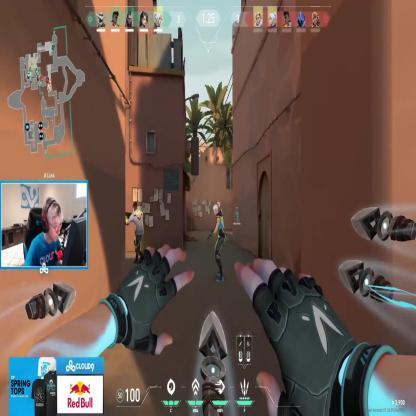enemy: (210, 201, 226, 282), (125, 202, 144, 264)
enemy_head: (213, 203, 220, 218), (132, 202, 138, 214)
